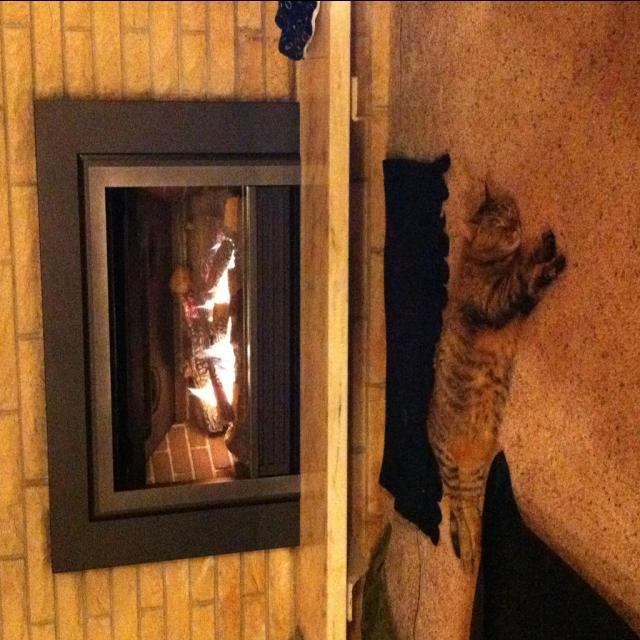Fire: (132, 213, 250, 450)
